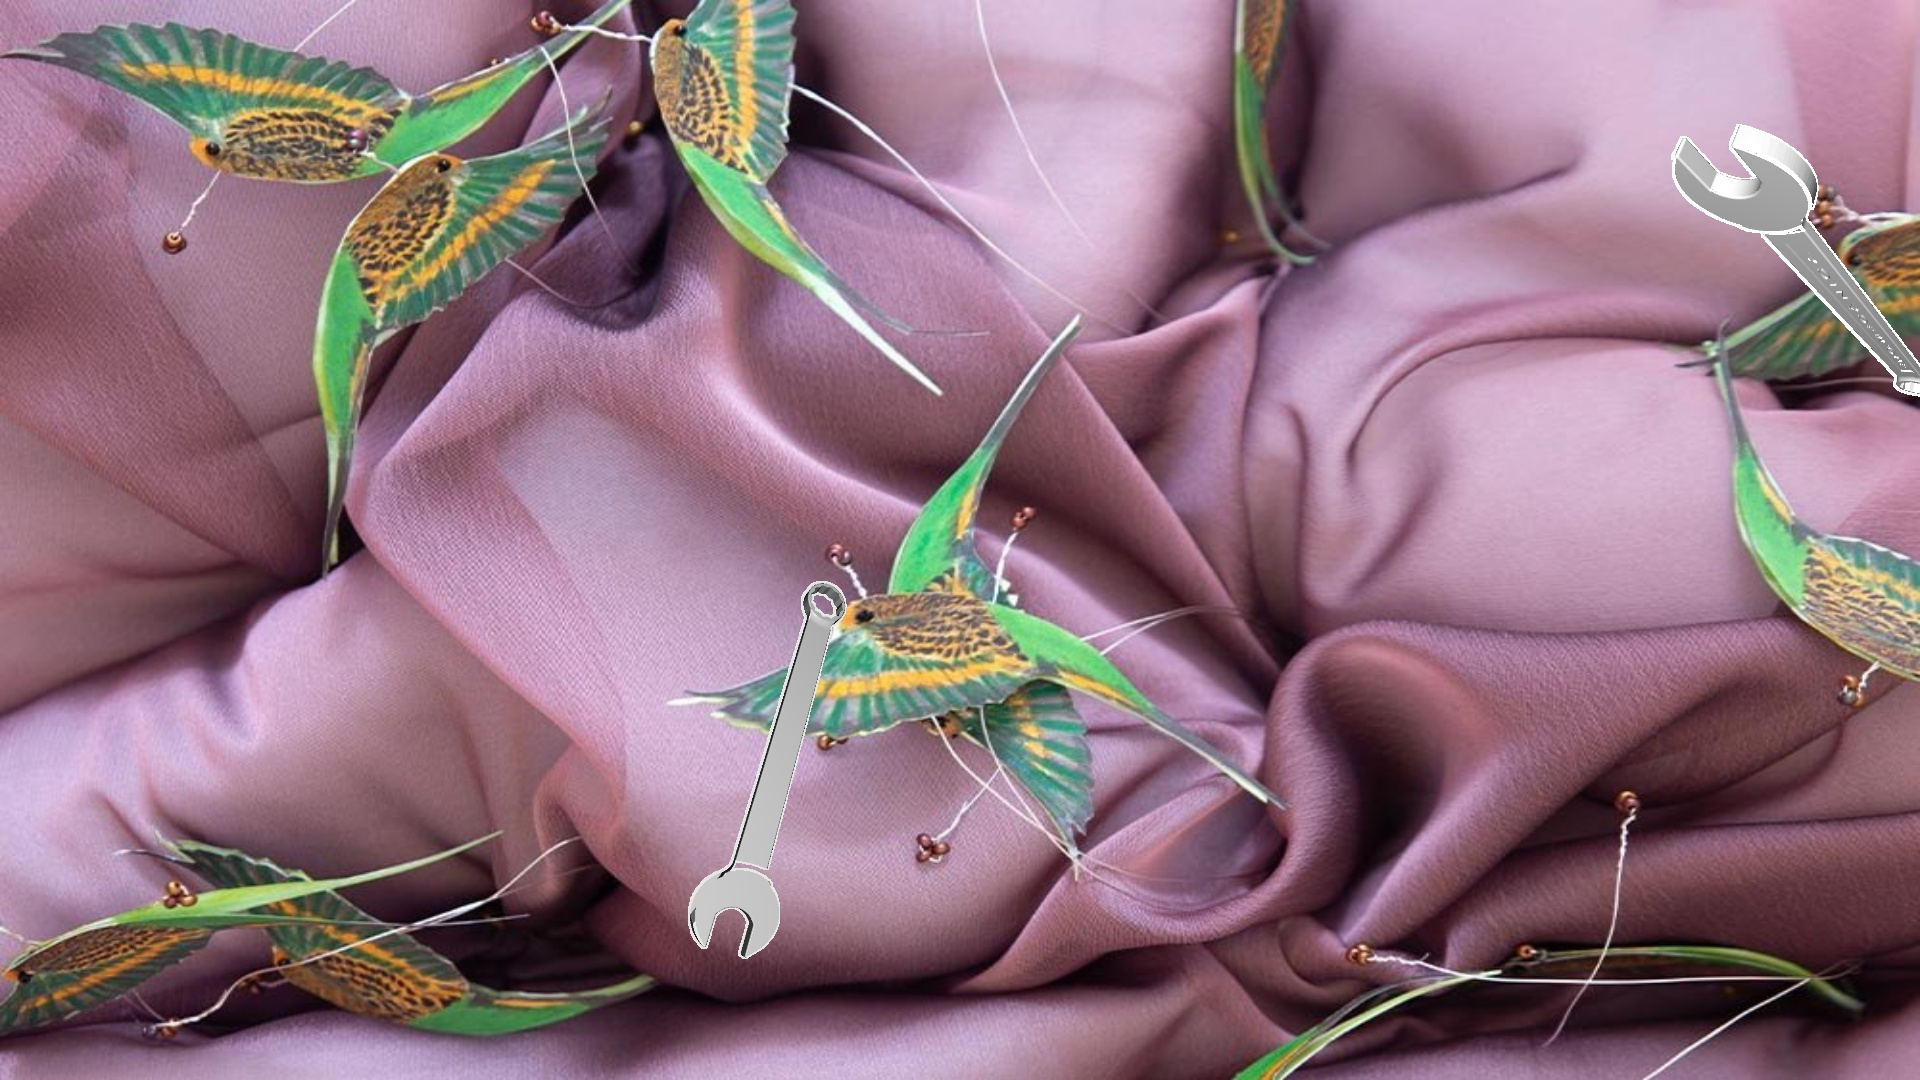Mixed Key: (1671, 124, 1919, 396), (688, 582, 847, 957)
